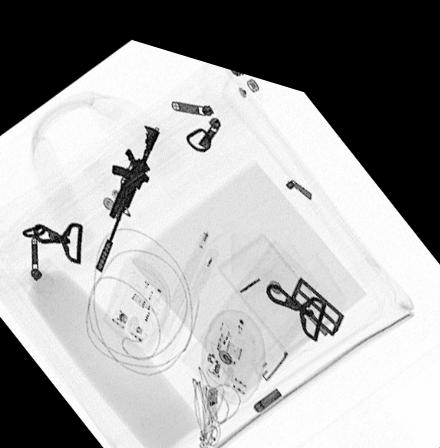Gun: (95, 115, 159, 267)
